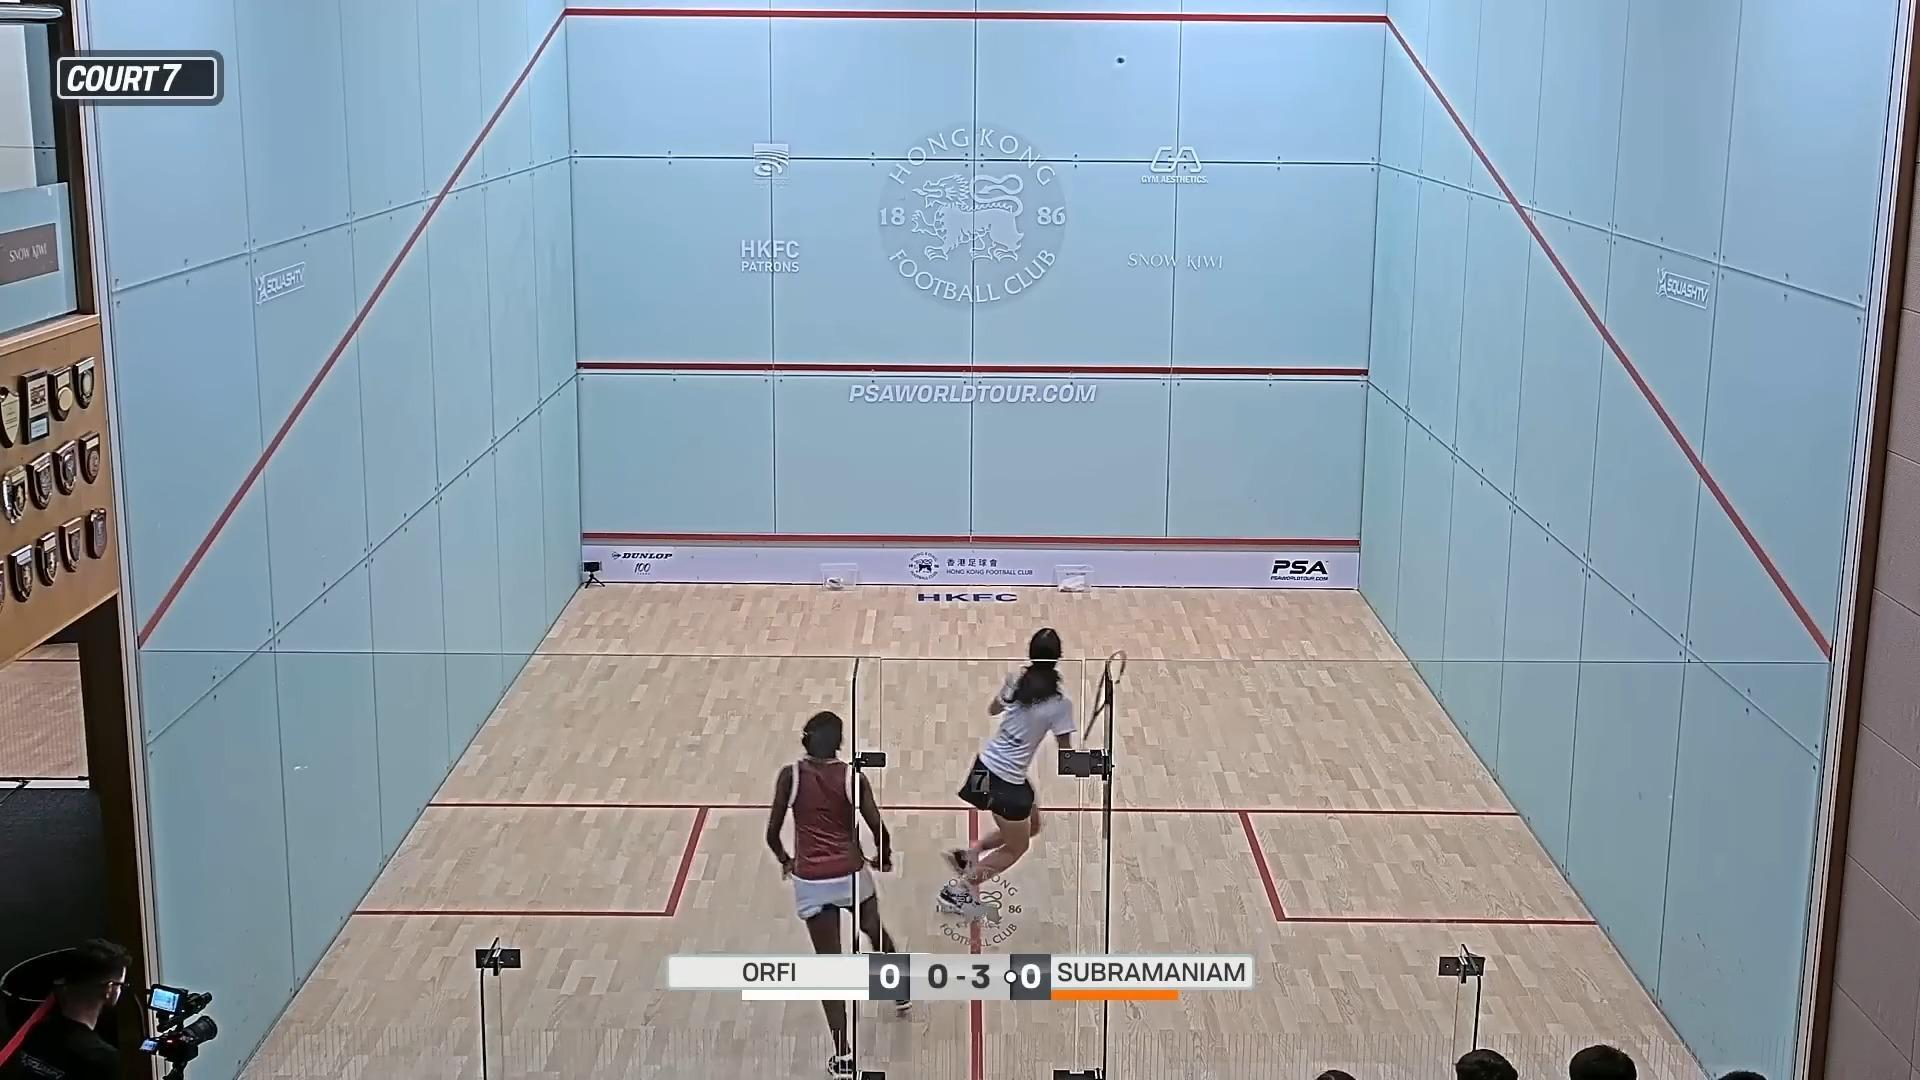Squash-Ball: (1106, 46, 1133, 73)
